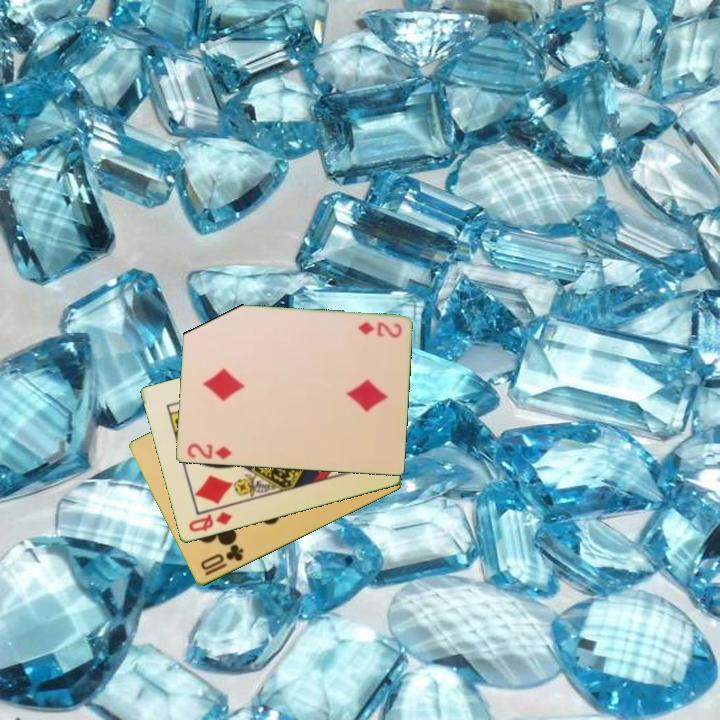10c: (197, 541, 246, 579)
2d: (184, 440, 235, 462), (354, 318, 404, 340)
Qd: (185, 509, 235, 535)
